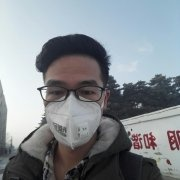Mask: (43, 77, 107, 142)
